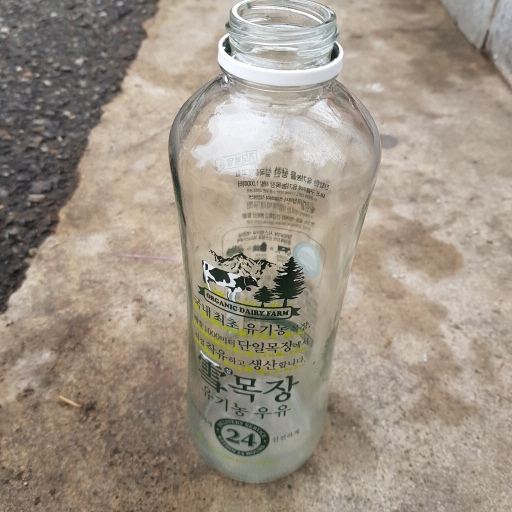Glass_4: (166, 2, 384, 491)
